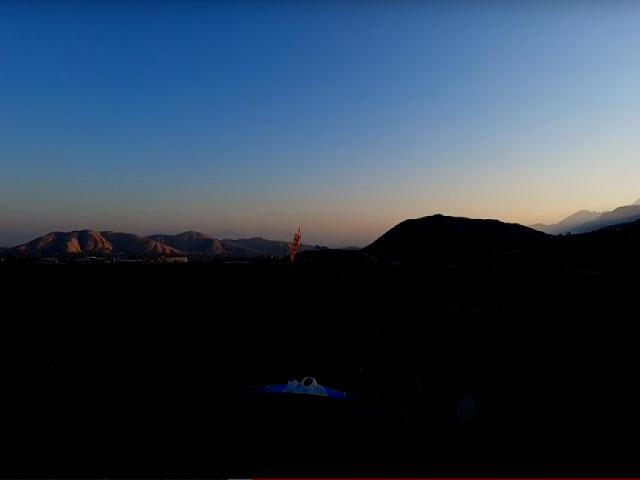iha: (246, 376, 356, 401)
